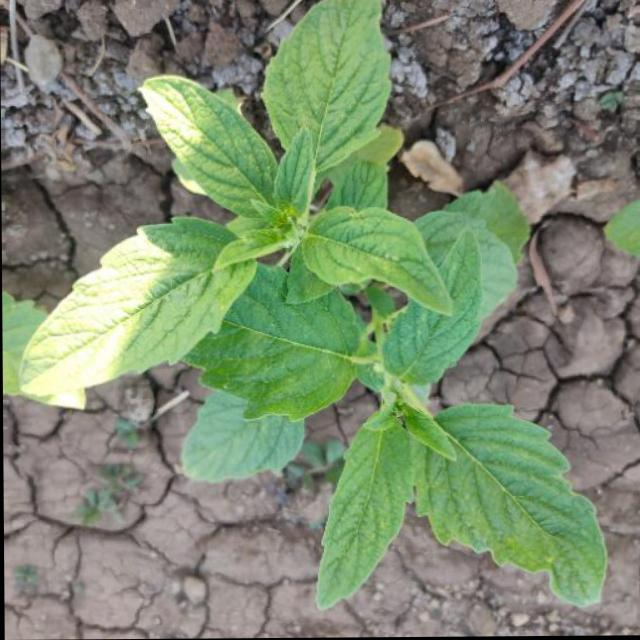crop: (34, 1, 618, 639)
